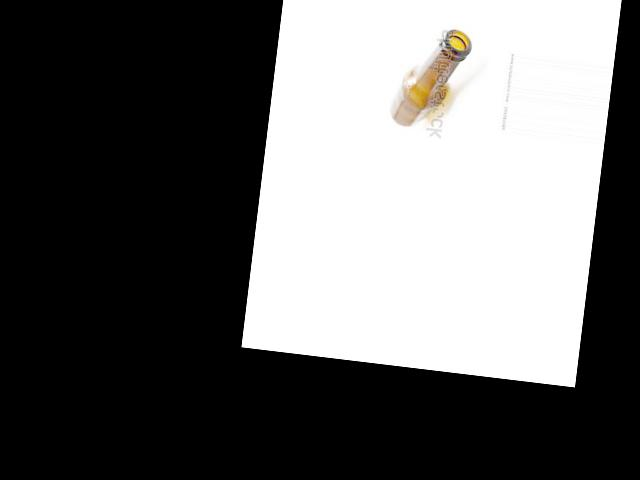beer: (389, 22, 474, 133)
